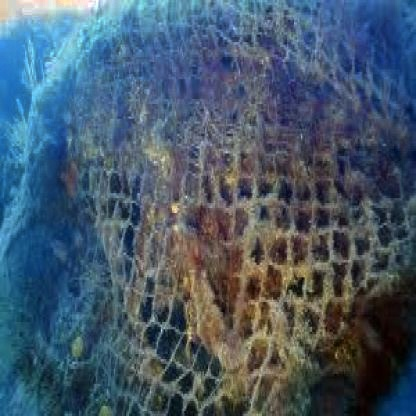net: (54, 7, 408, 416)
